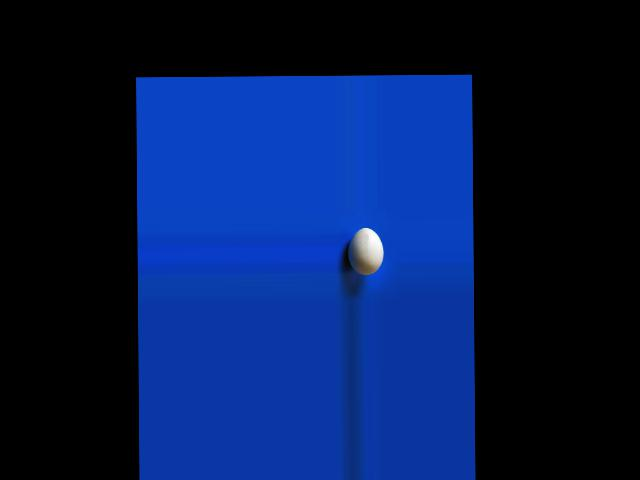egg: (347, 227, 383, 276)
